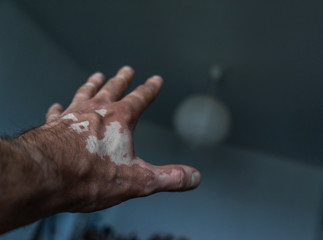vitiligo: (57, 105, 186, 189)
